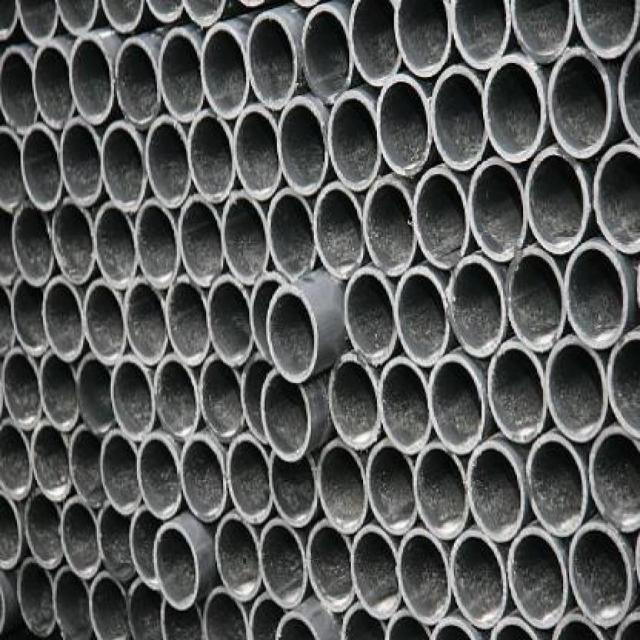pipe: (548, 46, 613, 160), (564, 241, 629, 349), (527, 146, 590, 254), (545, 335, 607, 443), (484, 55, 546, 163), (569, 524, 632, 629), (525, 435, 587, 537), (506, 247, 566, 352), (469, 158, 528, 263), (508, 527, 568, 629), (431, 65, 488, 171), (466, 442, 525, 544), (487, 342, 545, 444), (450, 255, 507, 358), (587, 425, 640, 533), (414, 168, 470, 270), (428, 355, 485, 455), (450, 531, 507, 630), (394, 266, 450, 366), (413, 442, 469, 539), (378, 75, 431, 177), (397, 527, 451, 626), (301, 4, 354, 104), (328, 91, 381, 190), (344, 268, 398, 365), (378, 358, 432, 455), (364, 179, 417, 276), (266, 286, 319, 383), (328, 354, 381, 450), (594, 143, 639, 254), (260, 369, 313, 462), (248, 11, 297, 110), (366, 440, 417, 535), (350, 524, 401, 619), (315, 182, 364, 279), (278, 96, 326, 195), (267, 187, 317, 280), (317, 441, 367, 534), (202, 23, 250, 119), (233, 106, 281, 201), (222, 190, 269, 285), (308, 520, 356, 613), (393, 0, 450, 78), (350, 0, 401, 86), (258, 519, 306, 610), (159, 29, 205, 123), (69, 34, 116, 125), (189, 112, 235, 203), (178, 196, 224, 287), (115, 39, 161, 130), (146, 115, 191, 208), (208, 274, 253, 367), (215, 514, 262, 602), (452, 0, 510, 71), (166, 275, 211, 366), (180, 436, 227, 523), (102, 122, 147, 212), (153, 523, 199, 611), (510, 0, 573, 64), (226, 436, 271, 524), (94, 203, 138, 291), (125, 277, 168, 367), (572, 0, 638, 58), (136, 200, 179, 289), (154, 356, 199, 441), (60, 119, 103, 207), (268, 452, 318, 527), (52, 197, 95, 284), (33, 41, 76, 128), (136, 436, 181, 519), (249, 273, 289, 366), (20, 124, 62, 212), (199, 355, 244, 437), (110, 358, 155, 440), (607, 329, 640, 440), (42, 276, 84, 363), (83, 279, 125, 366), (11, 202, 53, 287), (0, 44, 40, 131), (100, 430, 140, 515), (76, 354, 116, 436), (30, 420, 70, 502), (61, 497, 101, 579), (39, 351, 79, 431), (2, 348, 41, 430), (96, 501, 135, 580), (70, 424, 107, 507), (26, 488, 63, 570), (240, 353, 273, 444), (18, 557, 55, 638), (52, 566, 92, 639), (11, 276, 47, 357), (89, 571, 129, 639), (130, 506, 161, 591), (0, 419, 32, 500), (202, 586, 250, 639), (128, 577, 164, 639), (247, 595, 289, 640), (337, 603, 387, 640), (16, 0, 57, 44), (0, 490, 22, 569), (385, 607, 432, 640), (276, 606, 321, 640), (102, 0, 145, 34), (56, 0, 99, 34), (487, 613, 541, 640), (549, 615, 606, 640), (183, 0, 232, 29), (429, 617, 478, 640), (149, 0, 186, 26)
